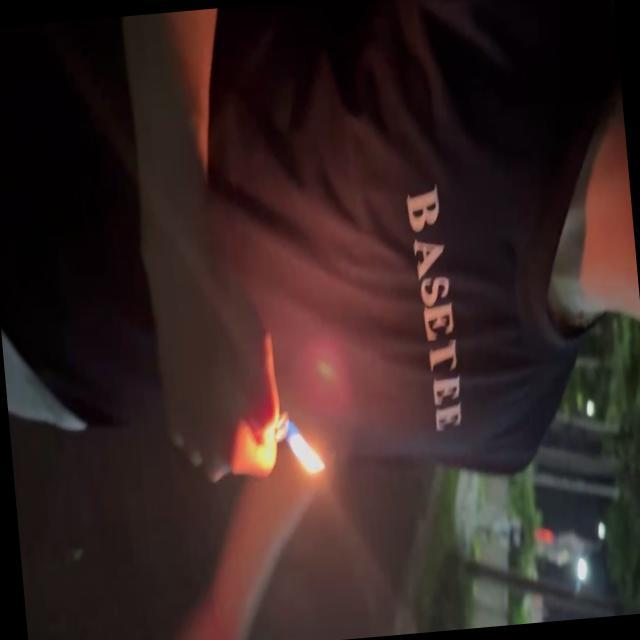Fire: (283, 416, 328, 478)
